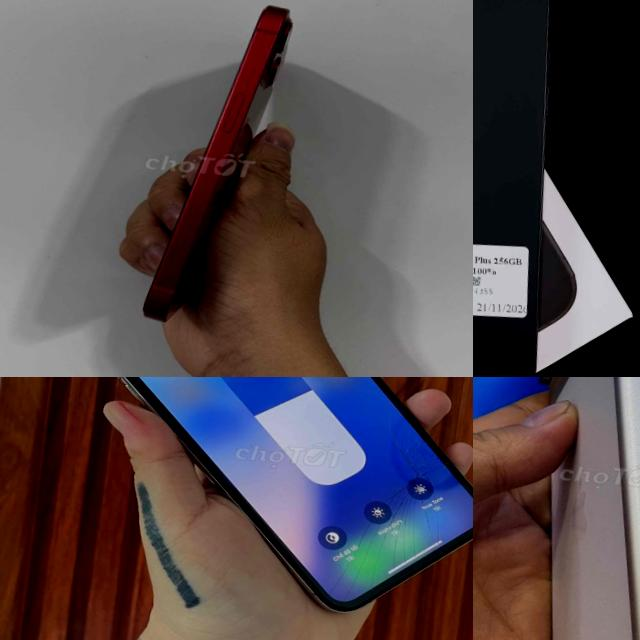gen_12_13: (138, 0, 318, 344)
gen_16: (473, 0, 589, 377)
gen_17: (538, 377, 640, 640)
gen_x_xs: (2, 377, 473, 631)
